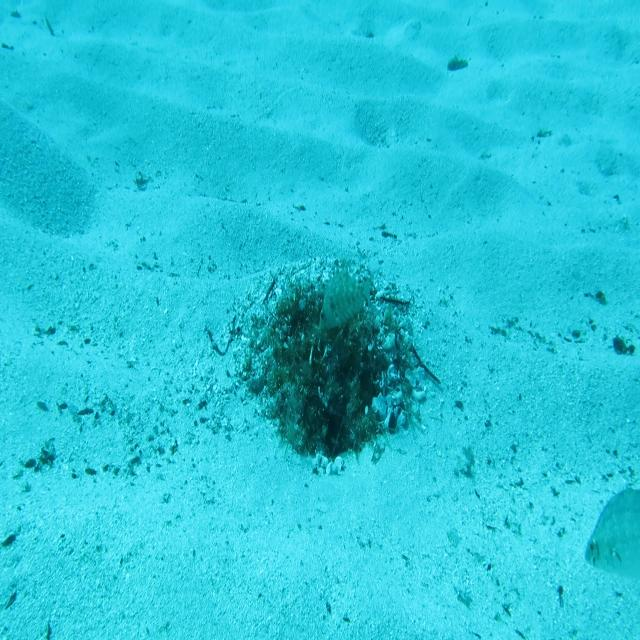INSF: (318, 265, 382, 337)
core_nest: (300, 306, 351, 353)
female: (583, 485, 640, 583)
nest: (222, 249, 431, 479)
vegetation: (444, 51, 468, 72)
